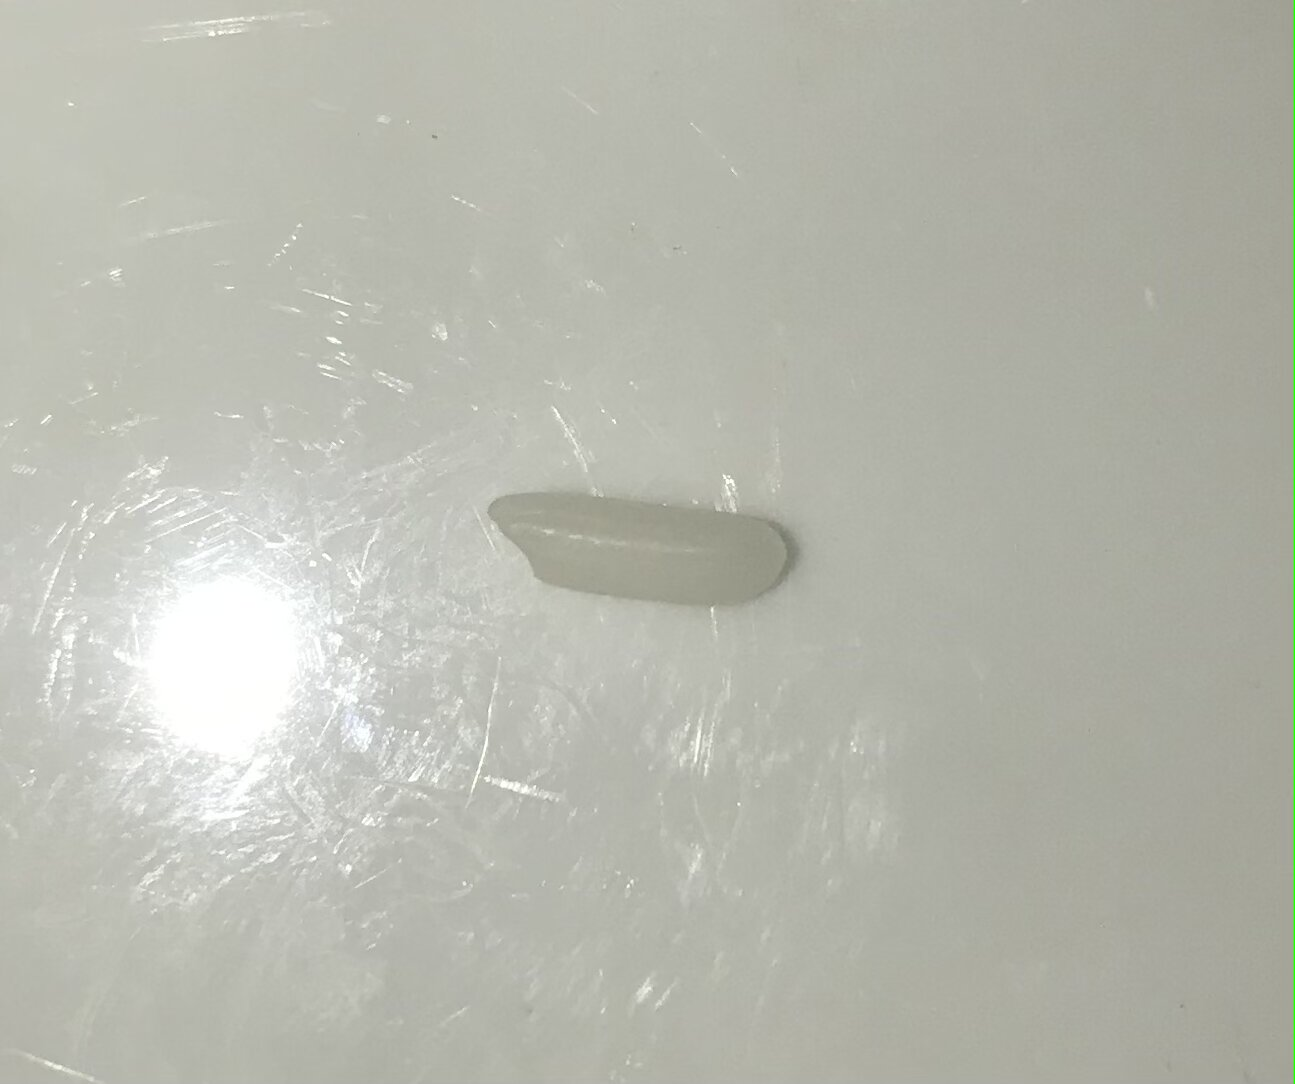Gao Lai Sua: (493, 473, 800, 617)
